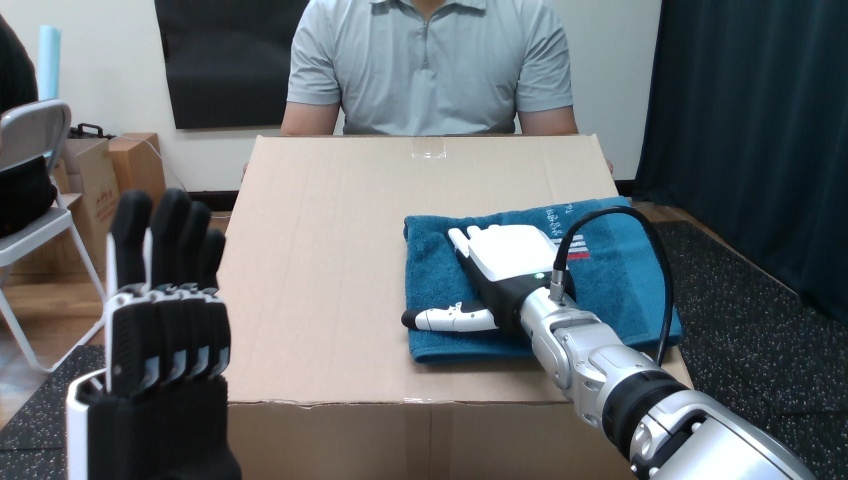left robot hand: (402, 205, 812, 479), (66, 189, 240, 478), (565, 213, 665, 361)
